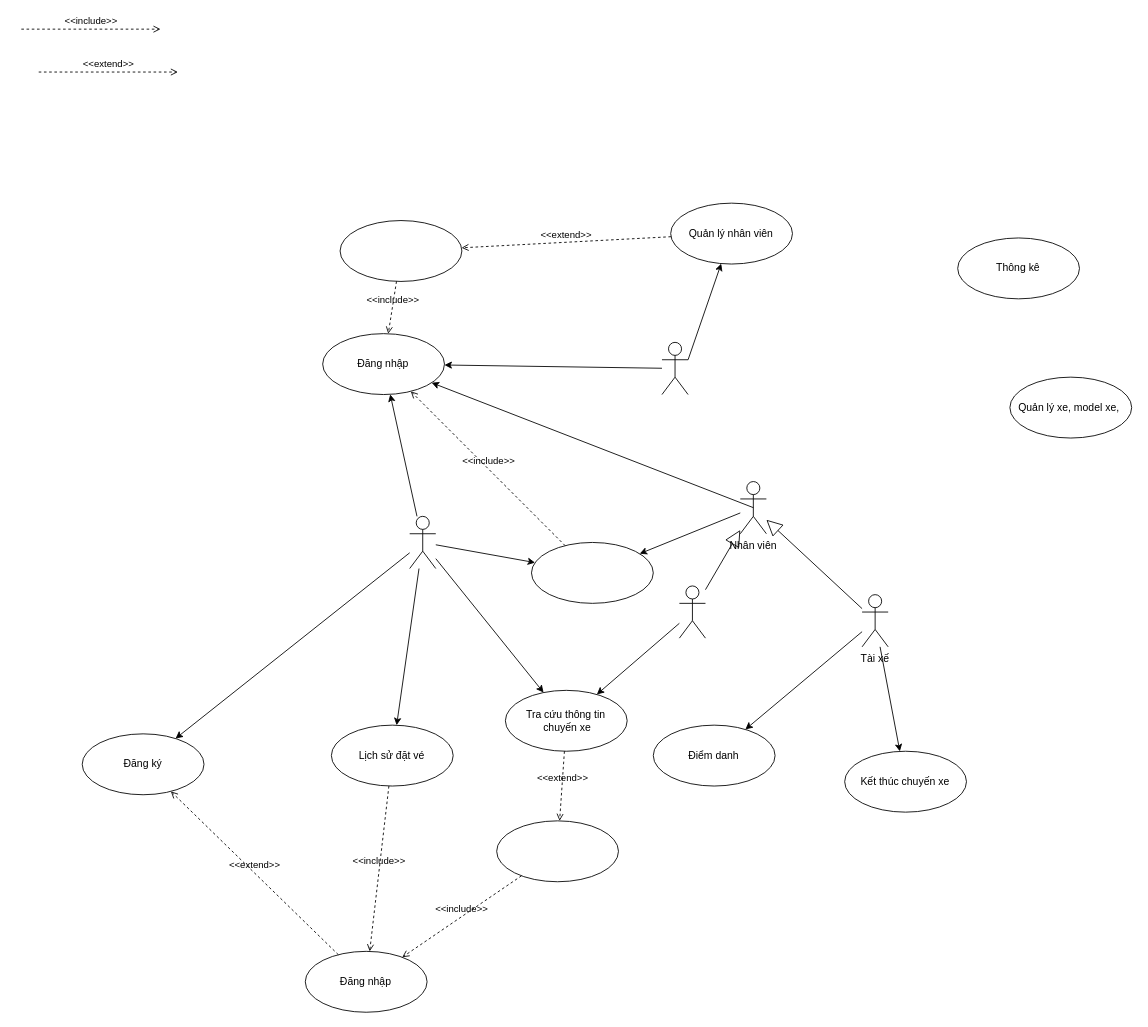
Some shapes in this 1148 by 1027 pixel diagram are drawn without their labels. Here are the shapes that lost their labels. From the top down, the centre of each, then its label:
At (400,250): "Cấp tài khoản".
At (674,368): "Quản trị viên".
At (422,542): "Khách hàng".
At (592,572): "Quản lý tài khoản".
At (692,611): "Nhân viên bán vé".
At (557,851): "Đặt vé".
